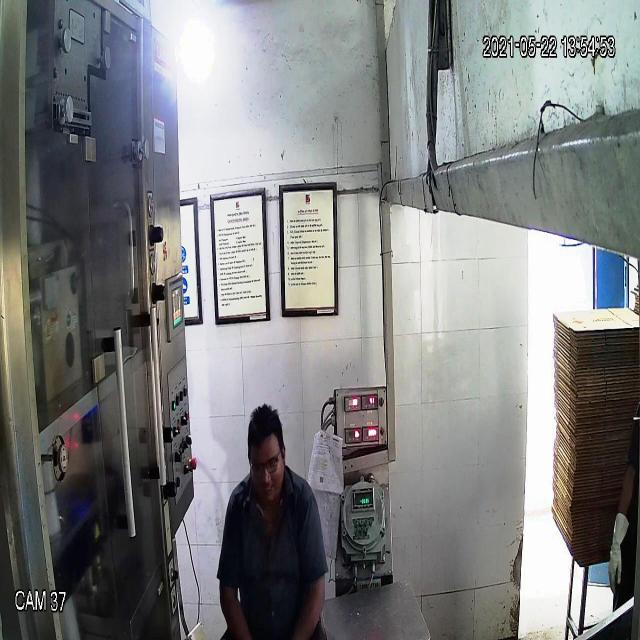glasses: (246, 447, 286, 487)
